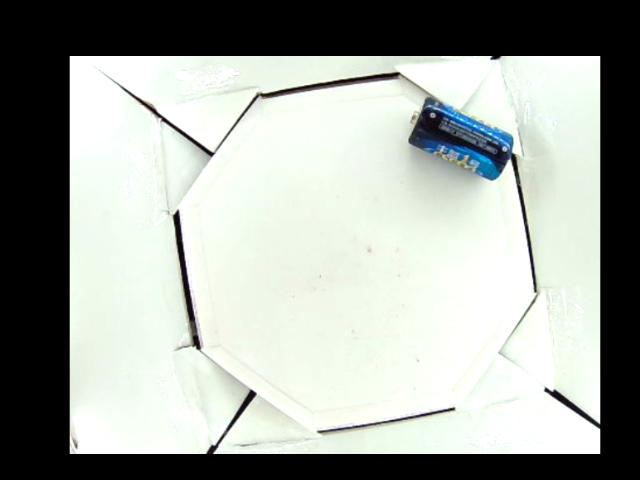Battery: (409, 96, 514, 182)
